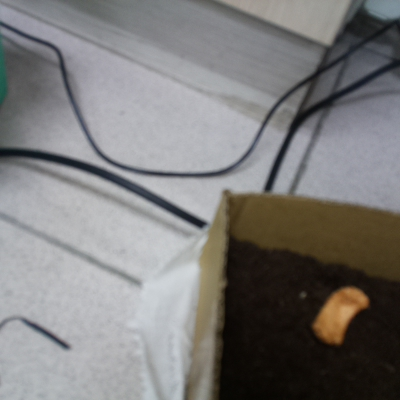eggs: (304, 280, 373, 347)
